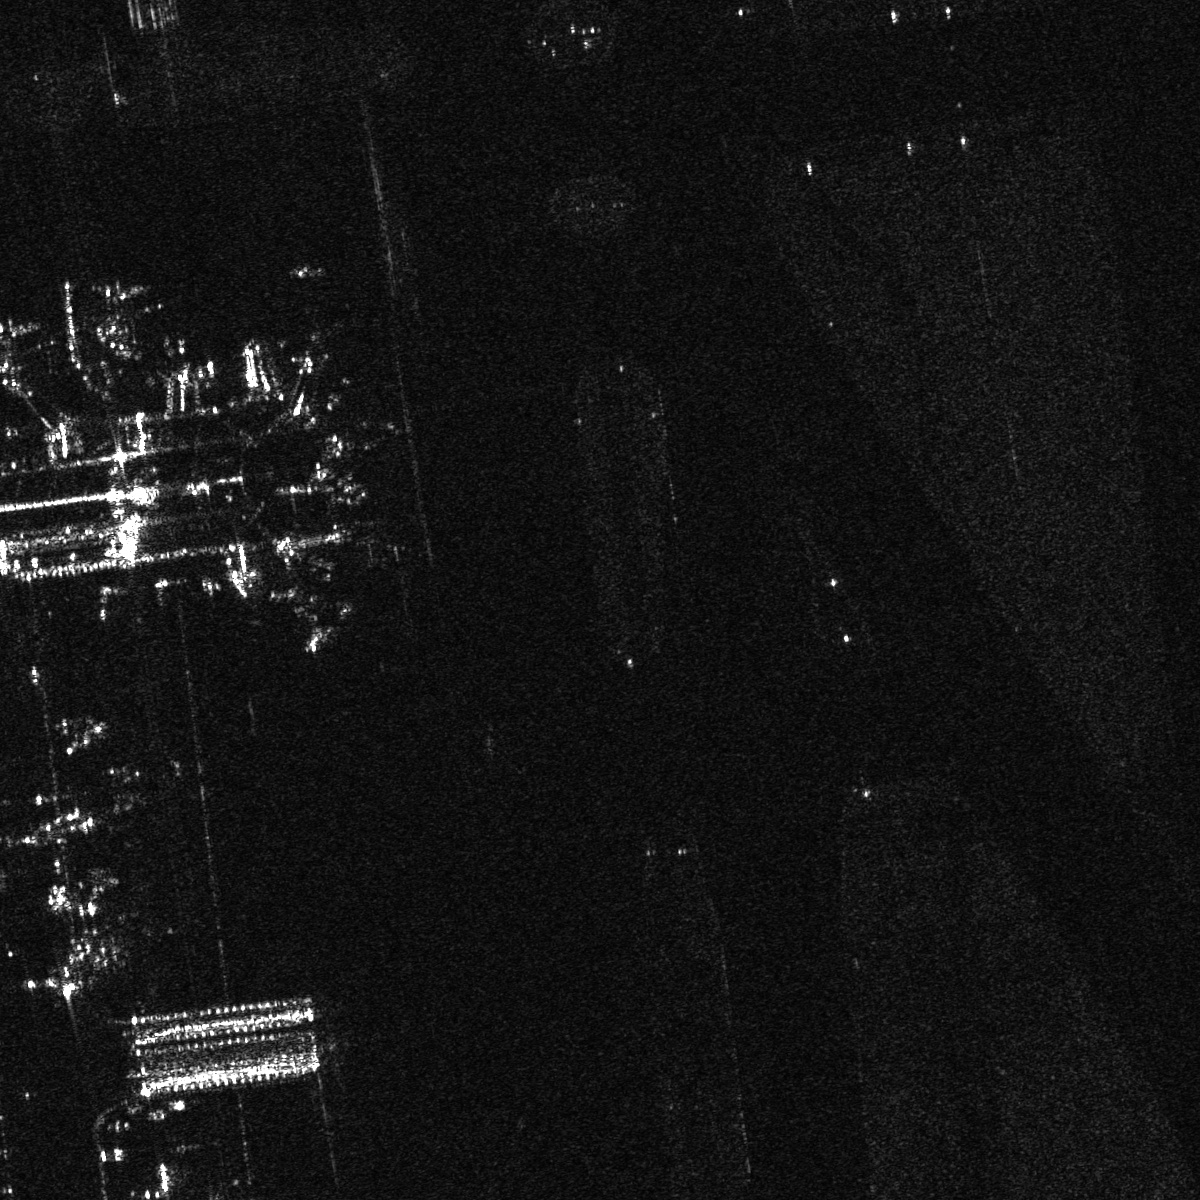A220: (84, 263, 149, 315)
